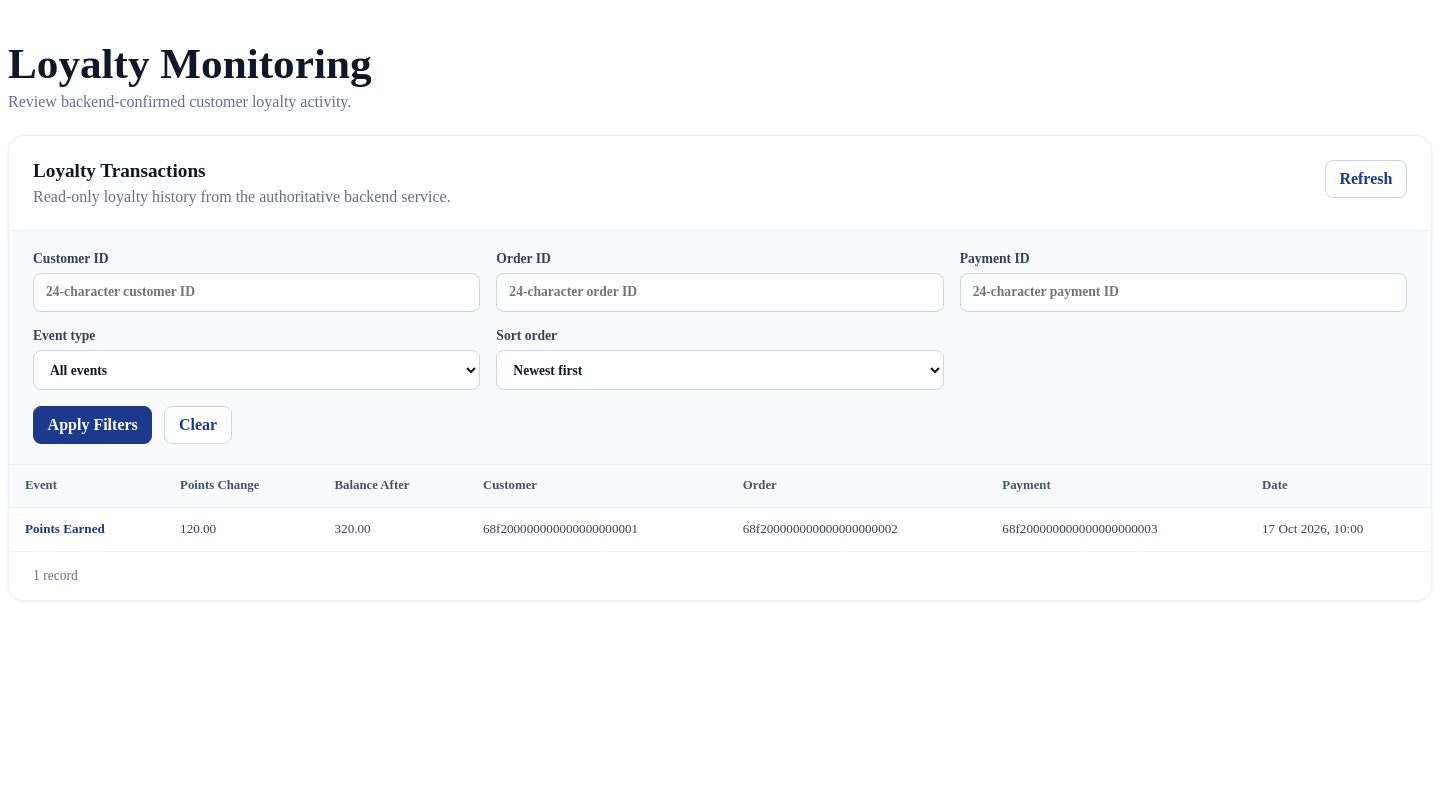
it: StaffLoyaltyPage › shows a safe message for invalid identifiers
The width and height of the screenshot is (1440, 810).
Type "invalid-id" into the field labelled "Customer ID" at (257, 292), box [33,273,480,312]
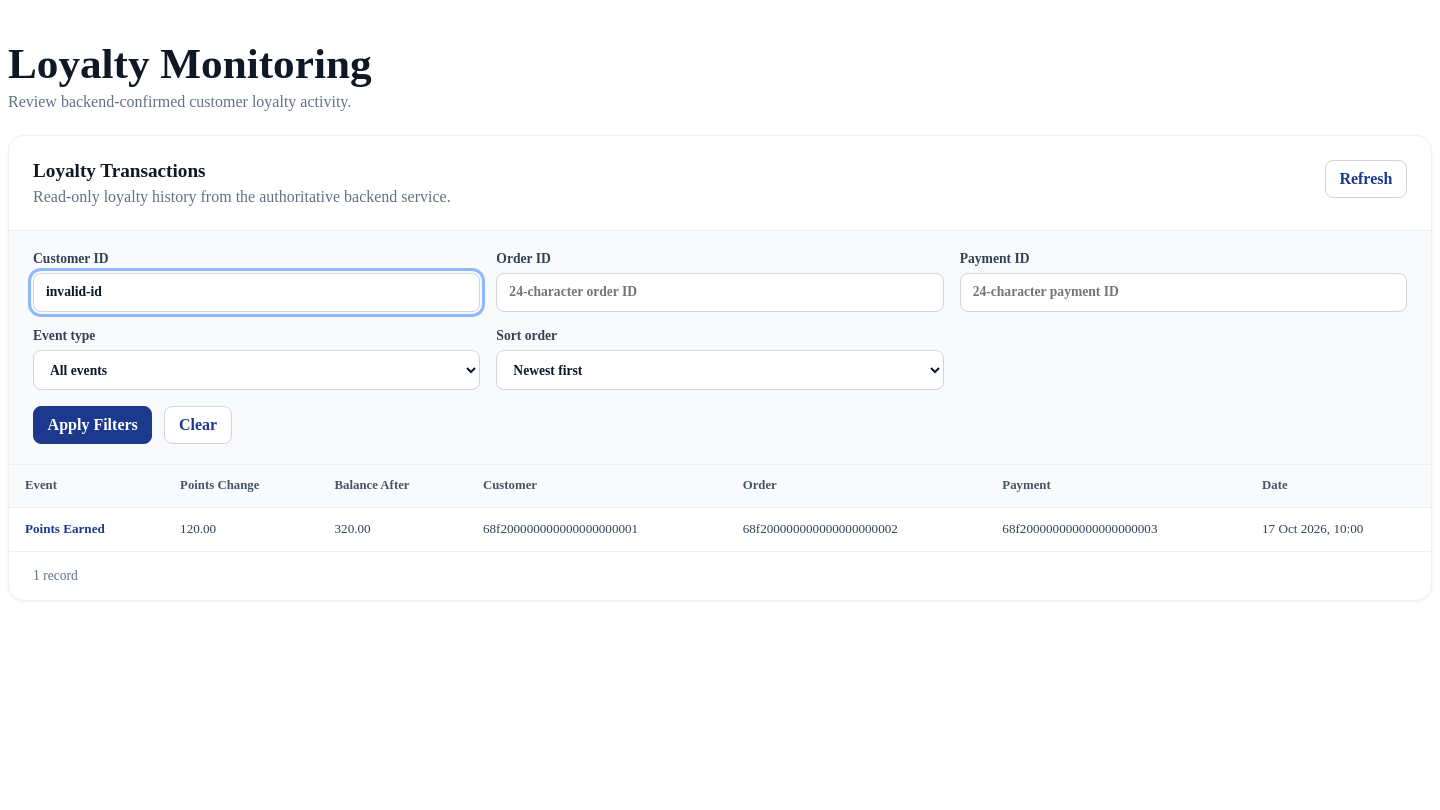
Click the button "Apply Filters" at (93, 425), box [33,406,152,444]
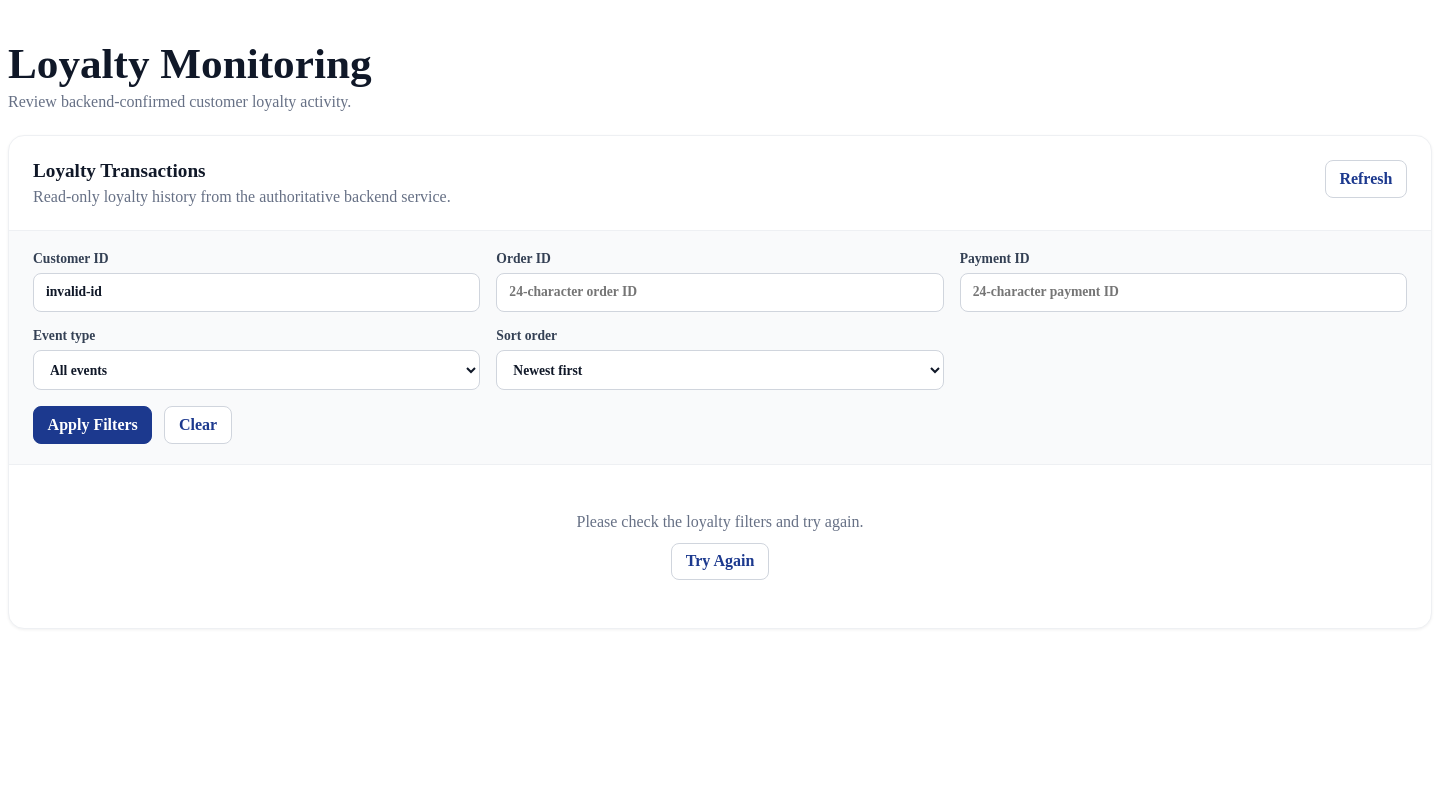
Expected: the message shows "check the loyalty filters", [576,513,864,530]
Expected: the table is gone
